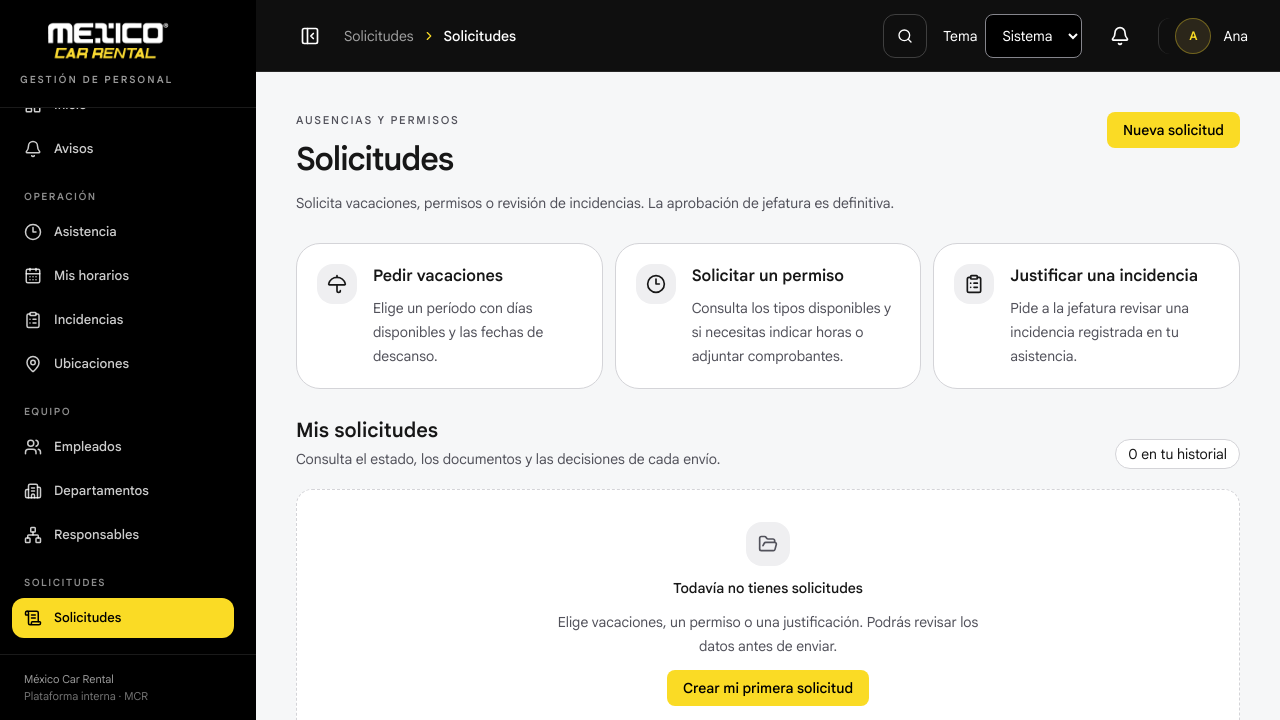
it: explains an empty personal history and offers a first draft without sending it
The image size is (1280, 720).
(page scrolled)
Check: the text "Todavía no tienes solicitudes" is shown, box top-left (673, 578), bottom-right (863, 598)
Click the button "Crear mi primera solicitud" at (768, 688), box top-left (667, 670), bottom-right (869, 706)
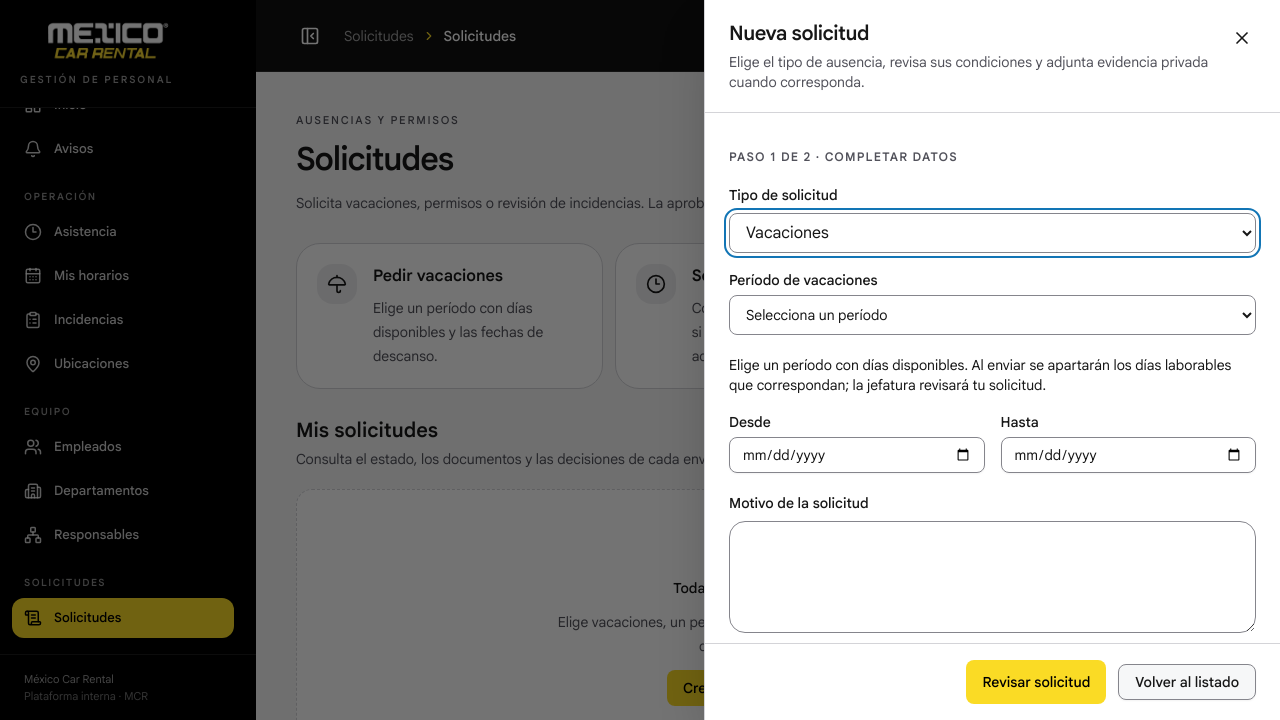
Check: the dialog "Nueva solicitud" is shown, box top-left (704, 0), bottom-right (1279, 719)
